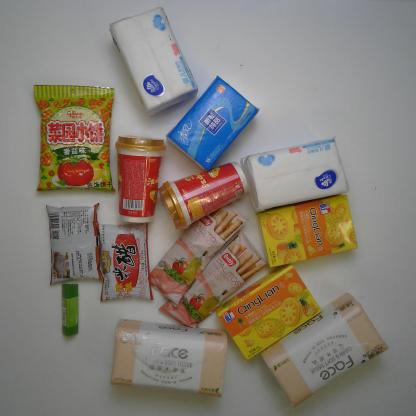Dessert: (155, 228, 267, 329), (149, 202, 249, 308), (215, 263, 322, 362), (256, 194, 360, 268)
Instant Drink: (158, 160, 252, 230), (113, 135, 167, 224)
Puffed Food: (32, 84, 118, 192)
Seasoner: (45, 201, 105, 287), (93, 220, 154, 302)
Stationery: (61, 283, 80, 337)
Tissue: (261, 291, 390, 410), (108, 6, 200, 116), (164, 75, 262, 173), (110, 318, 229, 398), (240, 136, 350, 213)
